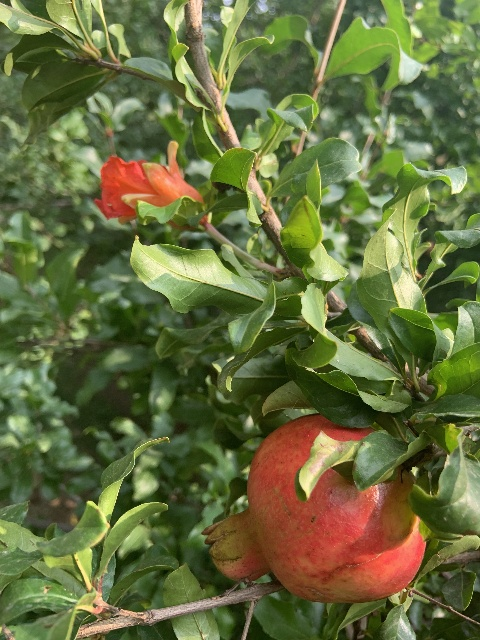flower: (93, 141, 206, 226)
ripe: (203, 413, 425, 601)
